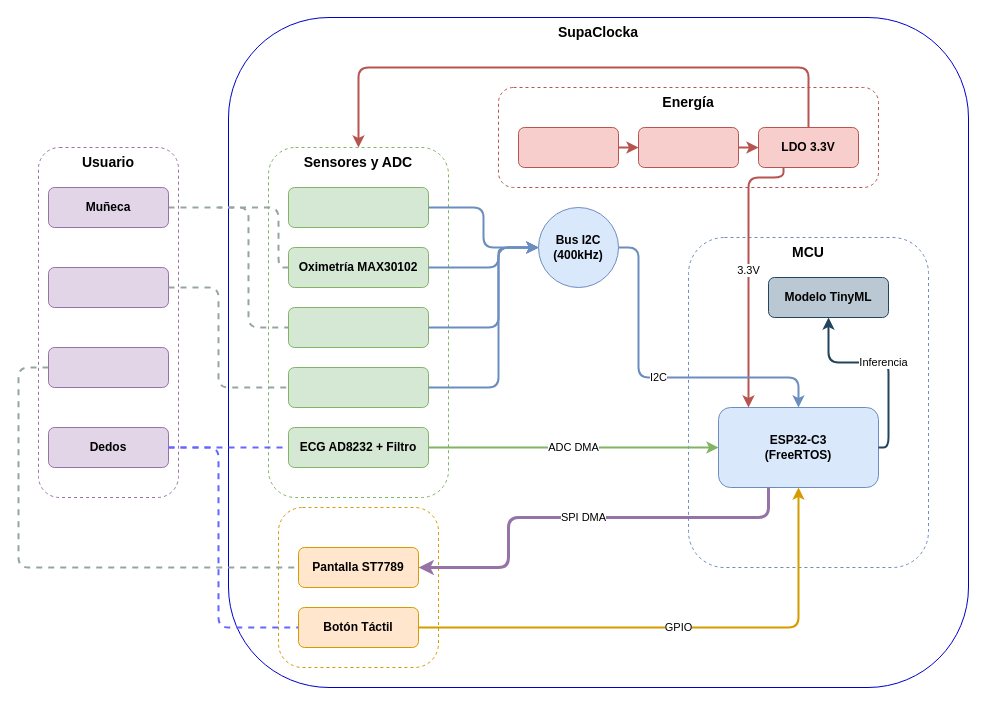
Some shapes in this 986 by 705 pixel diagram are drawn without their labels. Here are the shapes that lost their labels. From the top down, the box of each, then its label:
(518, 126, 618, 168): Batería LiPo
(638, 126, 738, 168): BMS TP4056
(288, 186, 428, 228): Batería MAX17048
(48, 266, 168, 308): Brazo
(288, 306, 428, 348): Temp MAX30205
(48, 346, 168, 388): Visión
(288, 366, 428, 408): IMU BMI160
(278, 506, 438, 668): Interfaz
